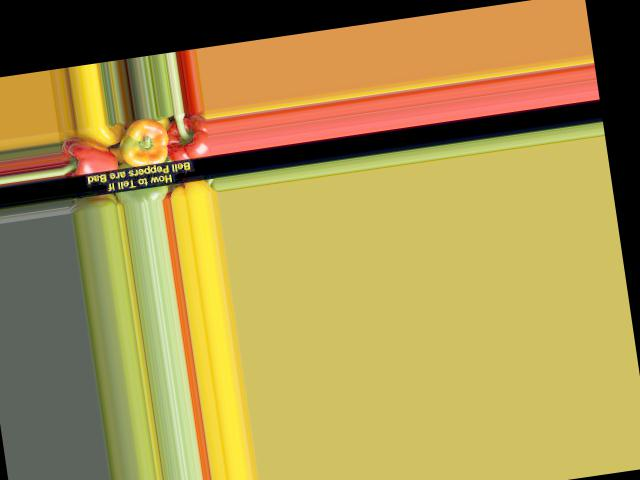bell_pepper: (160, 110, 210, 165)
